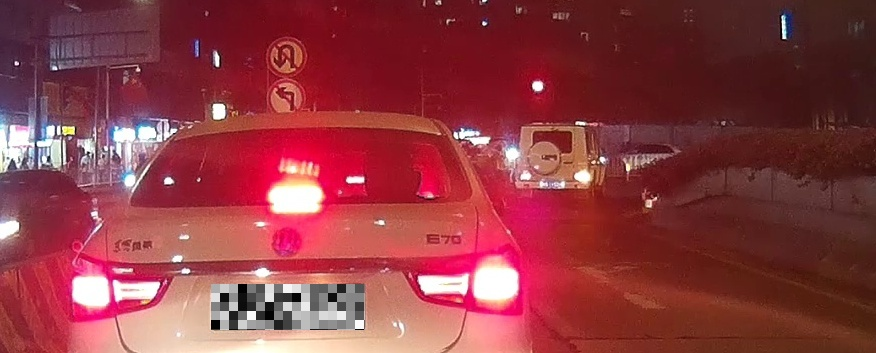L_light: (71, 253, 173, 324)
R_light: (404, 243, 522, 316)
T_light: (268, 186, 323, 206)
night-brake: (68, 112, 531, 353)
plate_1: (211, 284, 365, 330)
